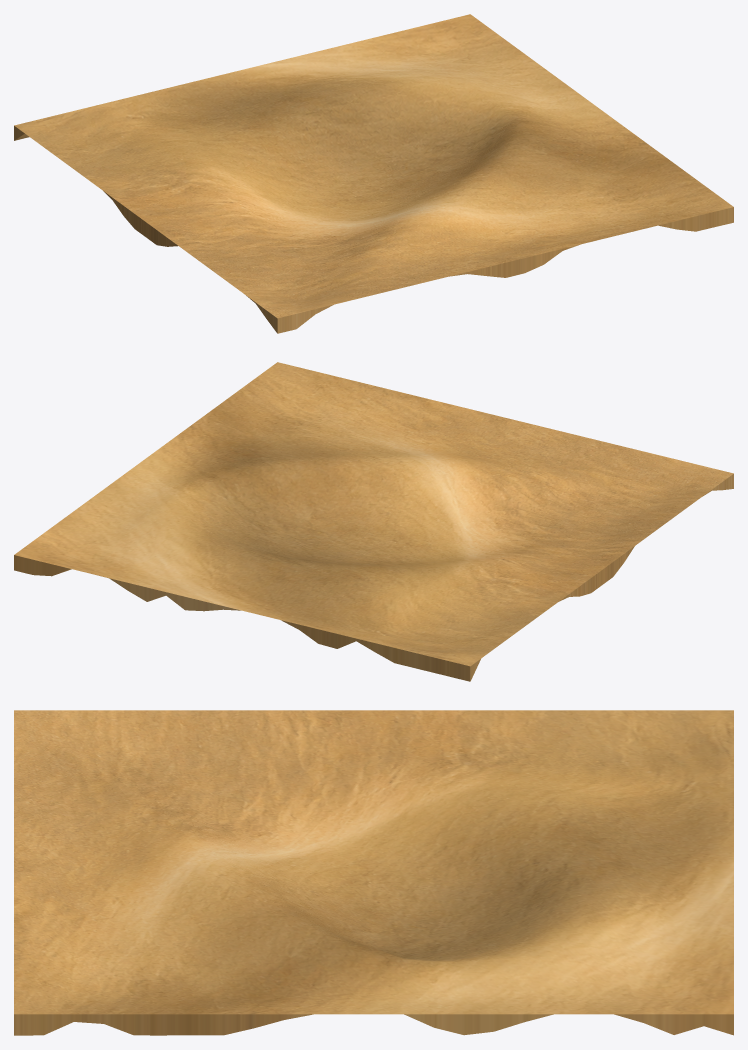
The picture shows the model from 3 angles, top to bottom: view 1: azimuth 30°, elevation 25°; view 2: azimuth 150°, elevation 25°; view 3: azimuth 270°, elevation 25°; orthographic projection. The views are drawn at different scales.
Visible parts, largest first — view 1: desert-ground; view 2: desert-ground; view 3: desert-ground.
Part boxes in pixels (x1,y1,x2,y2): desert-ground: [14, 14, 733, 333]; desert-ground: [14, 362, 733, 681]; desert-ground: [14, 710, 733, 1035].
Size of the model in its own units: 32 by 2.31 by 32.
1 material, 1 textured.
